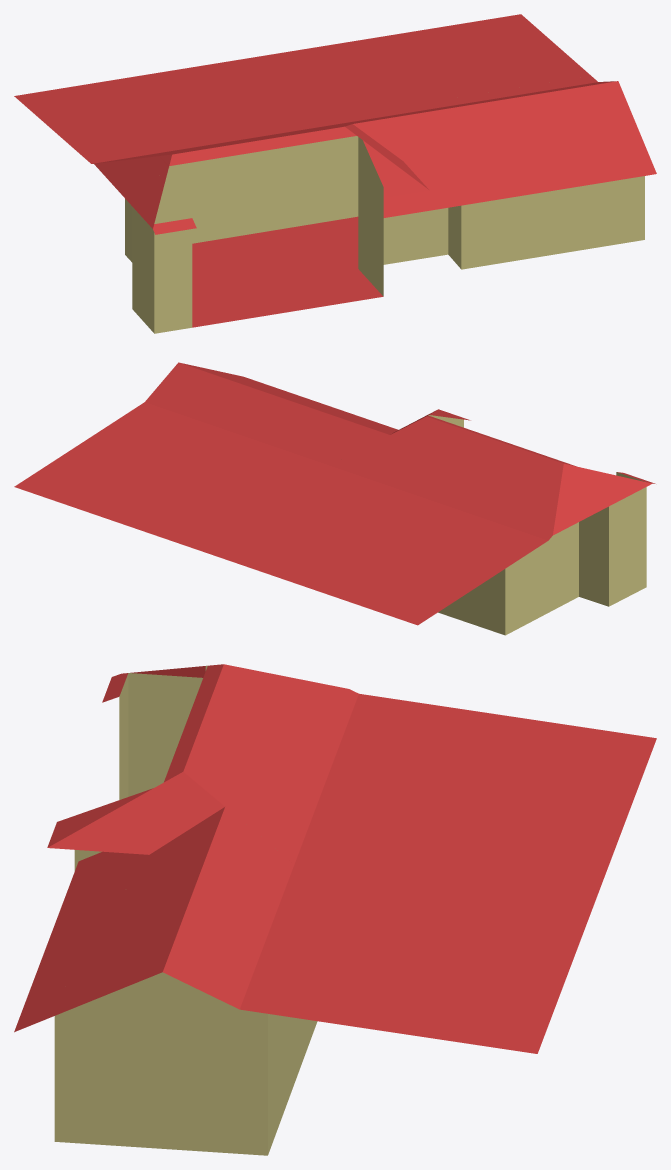
3 views of the same model, one above another, from view 1: azimuth 30°, elevation 25°; view 2: azimuth 150°, elevation 25°; view 3: azimuth 270°, elevation 25° (orthographic). The views are drawn at different scales.
Size of the model in its own units: 46.28 by 35.66 by 12.07.
